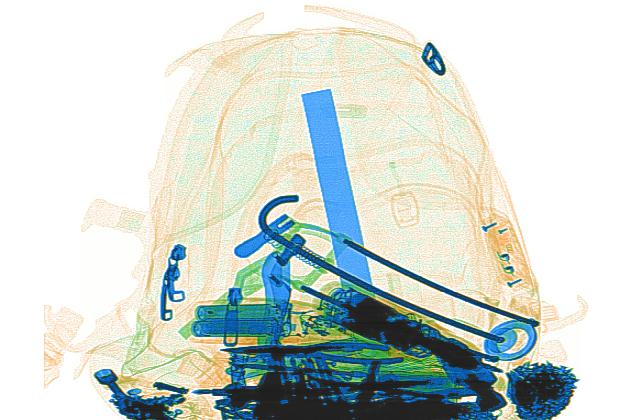battery: (193, 303, 293, 339)
